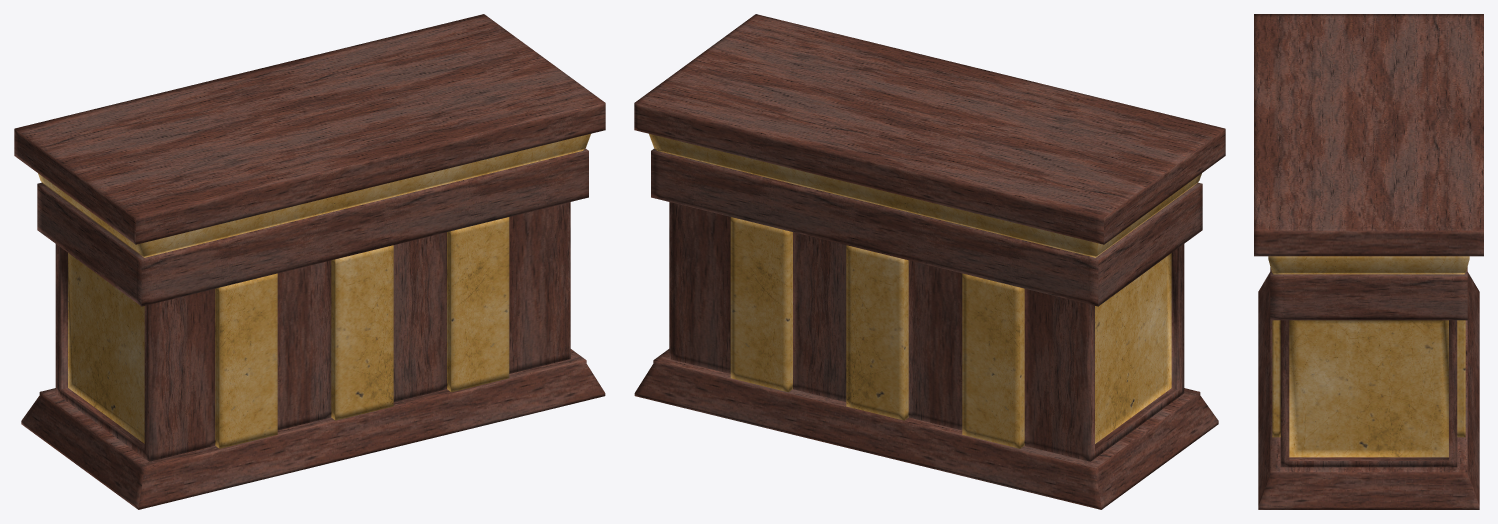
The model's file is Altar.fbx.
The picture shows the model from 3 angles, left to right: view 1: azimuth 30°, elevation 25°; view 2: azimuth 150°, elevation 25°; view 3: azimuth 270°, elevation 25°; orthographic projection. The views are drawn at different scales.
Parts seen in each view (by area): view 1: Base, Cube, Support; view 2: Base, Cube, Support; view 3: Cube, Base, Support.
Boxes of the visible parts, x1=… form: Base: x1=37, y1=134, x2=590, y2=461; Cube: x1=14, y1=14, x2=605, y2=244; Support: x1=21, y1=349, x2=605, y2=509; Base: x1=649, y1=134, x2=1202, y2=461; Cube: x1=634, y1=14, x2=1225, y2=244; Support: x1=634, y1=349, x2=1218, y2=509; Cube: x1=1254, y1=14, x2=1483, y2=256; Base: x1=1268, y1=256, x2=1469, y2=467; Support: x1=1258, y1=272, x2=1479, y2=509.
Size of the model in its own units: 146 by 87 by 65.
